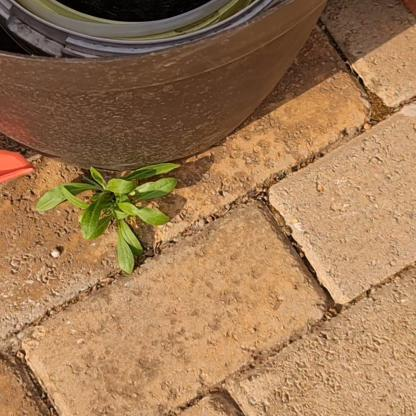Weeds: (35, 162, 182, 275)
